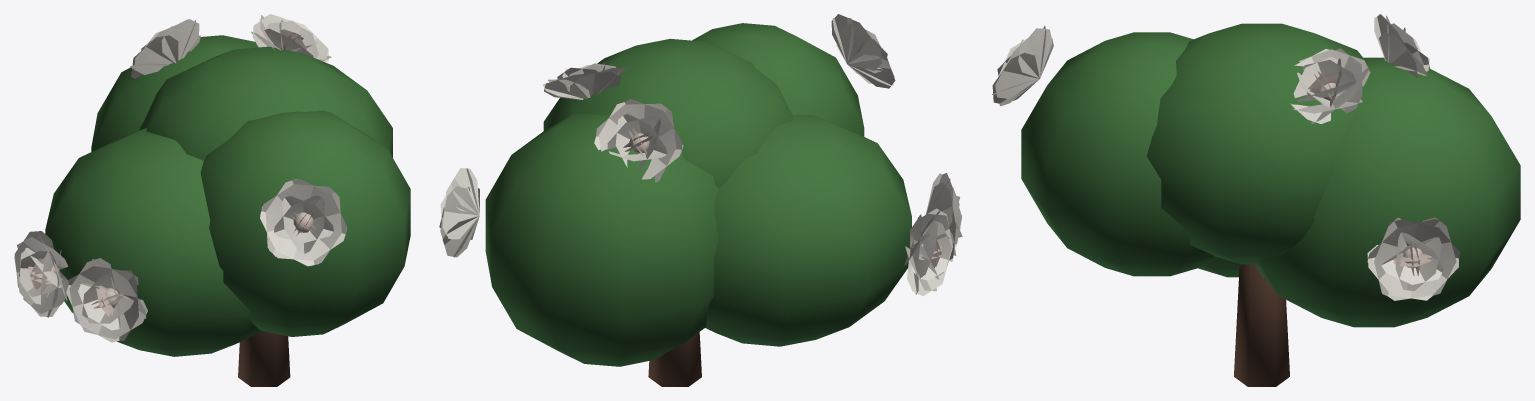
The model's file is ing_rose_white.glb.
The picture shows the model from 3 angles, left to right: view 1: azimuth 30°, elevation 25°; view 2: azimuth 150°, elevation 25°; view 3: azimuth 270°, elevation 25°; orthographic projection. The views are drawn at different scales.
Visible parts, largest first — view 1: ing_rose_white; view 2: ing_rose_white; view 3: ing_rose_white.
Part boxes in pixels (x1,y1,x2,y2): ing_rose_white: (14, 14, 410, 386); ing_rose_white: (439, 14, 962, 386); ing_rose_white: (992, 14, 1520, 386).
Size of what is drawn, in the model's own units: 0.7909 by 0.5931 by 0.8309.
